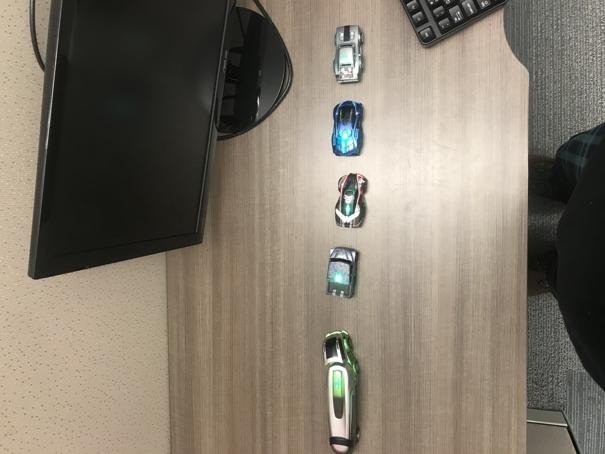Charger: (333, 26, 365, 84)
Freewheel: (323, 330, 362, 451)
MXT: (327, 246, 360, 300)
Shock: (332, 100, 365, 156)
Skull: (334, 174, 368, 228)
